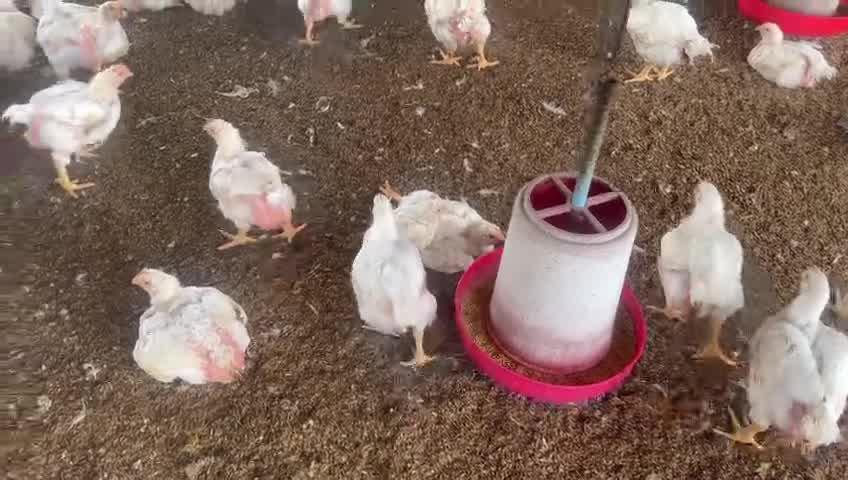AbNormal: (132, 269, 250, 385), (750, 21, 834, 90)
Normal: (729, 261, 844, 457), (1, 62, 135, 200), (656, 180, 744, 363), (354, 195, 437, 370), (202, 115, 305, 249), (37, 2, 133, 75), (628, 4, 706, 86), (421, 0, 500, 72), (296, 2, 360, 49)
